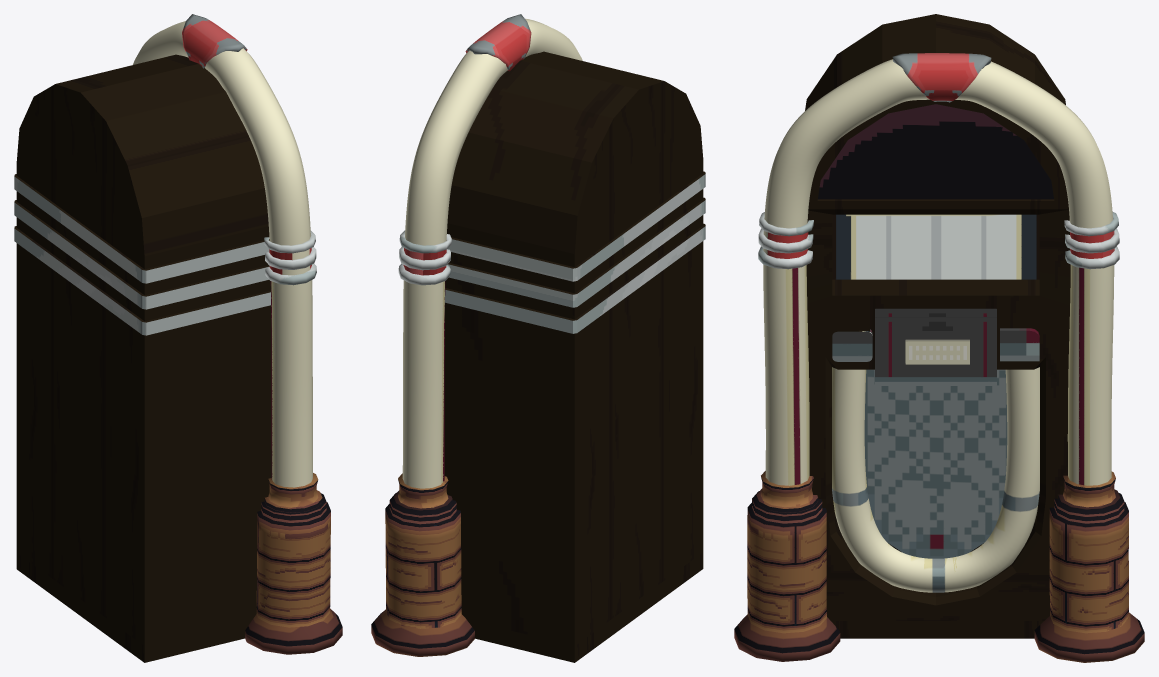
Rendered from Jukekebox.fbx.
3 views of the same model, side by side, from view 1: azimuth 30°, elevation 25°; view 2: azimuth 150°, elevation 25°; view 3: azimuth 270°, elevation 25° (orthographic). The views are drawn at different scales.
Visible parts, largest first — view 1: Corpo da box, Base do pe, BArrinha de metal, Tróçocurvado, Tróçocurvado.001, Guarda de cima, armadura do troço; view 2: Corpo da box, Base do pe, BArrinha de metal, Tróçocurvado, Tróçocurvado.001, Guarda de cima, armadura do troço, armadura do troço verm; view 3: Corpo da box, Base do pe, Corpo da box.002, Tróçocurvado.001, Tróçocurvado, NurbsCurve, Vidro, Corpo da box.001, Negócio do meio, armadura do troço, Guarda de cima, Numped (+3 smaller).
Part boxes in pixels (x1,y1,x2,y2): Corpo da box: [14, 54, 271, 662]; Base do pe: [245, 473, 342, 654]; BArrinha de metal: [14, 176, 270, 335]; Tróçocurvado: [133, 21, 310, 259]; Tróçocurvado.001: [270, 266, 312, 487]; Guarda de cima: [182, 14, 247, 68]; armadura do troço: [264, 230, 316, 285]; Corpo da box: [444, 51, 705, 662]; Base do pe: [371, 473, 474, 656]; BArrinha de metal: [445, 174, 705, 333]; Tróçocurvado: [405, 18, 582, 245]; Tróçocurvado.001: [402, 280, 445, 488]; Guarda de cima: [465, 14, 531, 71]; armadura do troço: [398, 230, 451, 285]; armadura do troço verm: [403, 248, 446, 275]; Corpo da box: [805, 14, 1070, 638]; Base do pe: [734, 471, 1144, 662]; Corpo da box.002: [864, 369, 1007, 558]; Tróçocurvado.001: [763, 248, 1114, 485]; Tróçocurvado: [763, 59, 1112, 238]; NurbsCurve: [832, 367, 1039, 592]; Vidro: [818, 104, 1053, 199]; Corpo da box.001: [832, 214, 1039, 279]; Negócio do meio: [875, 308, 996, 385]; armadura do troço: [758, 212, 1119, 269]; Guarda de cima: [892, 53, 991, 102]; Numped: [905, 339, 969, 364].
Bounding box in the file's own units: 151 × 422 × 270.
11 materials, 11 textured.
